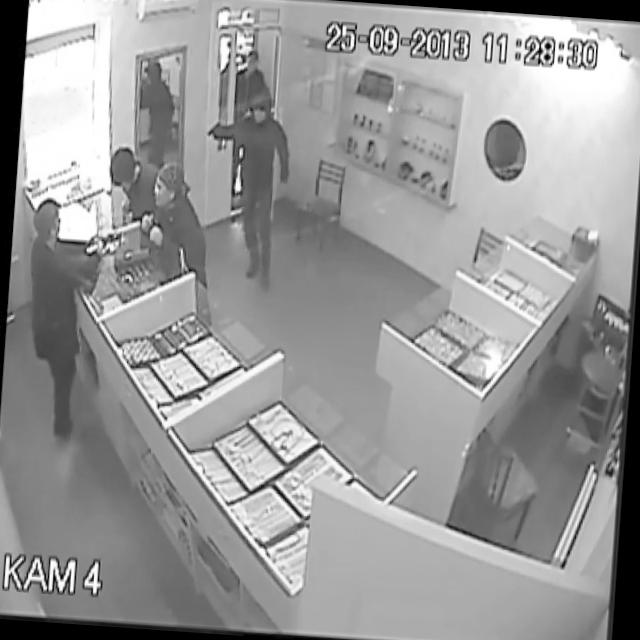gun: (205, 117, 224, 147)
person: (12, 196, 108, 449), (143, 160, 219, 302), (96, 148, 154, 224), (227, 34, 275, 85)
person with a gun: (190, 85, 318, 302)
